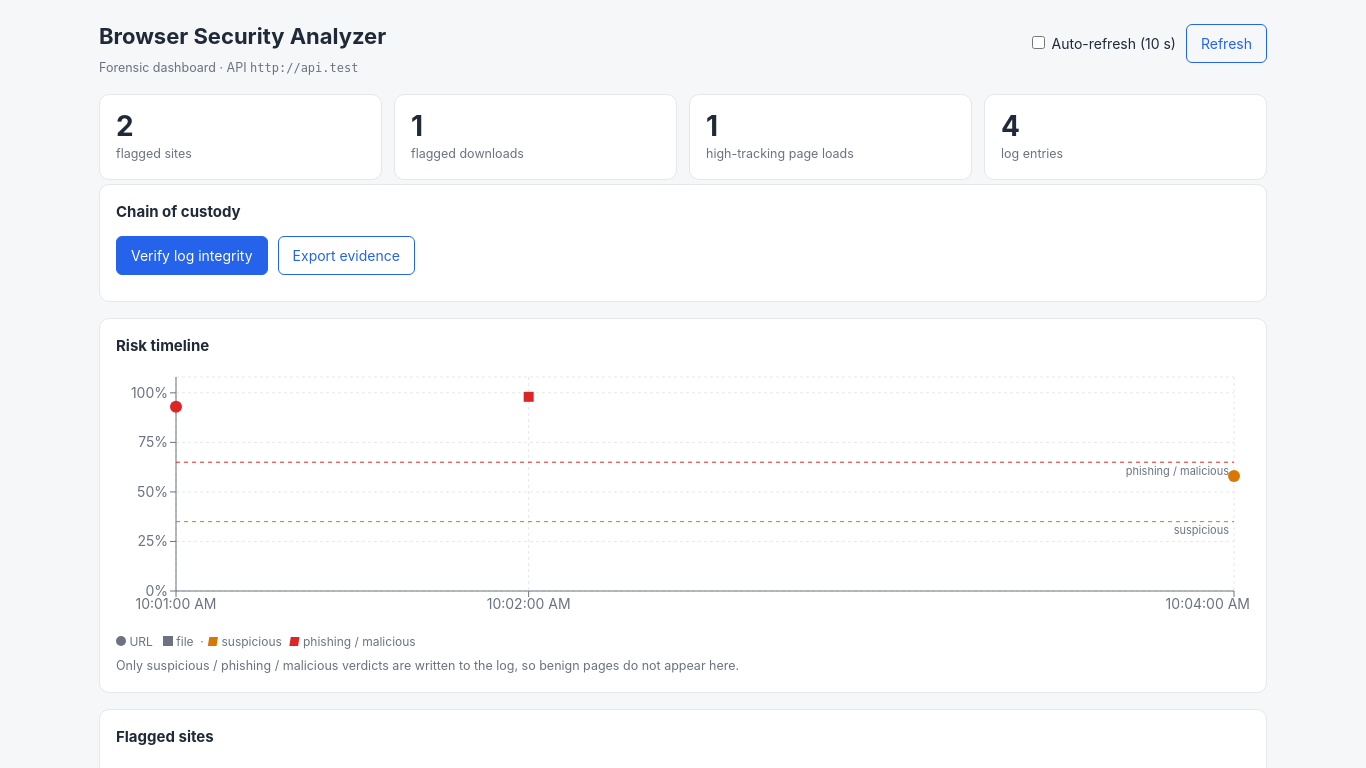
Scenario: Verify log integrity › valid chain -> green 'INTEGRITY VERIFIED' with entry count
Check: the text "flagged sites" is shown, box [116,146,192,160]
Step 1. Click the button "Verify log integrity" → (192, 255), box [116,236,268,275]
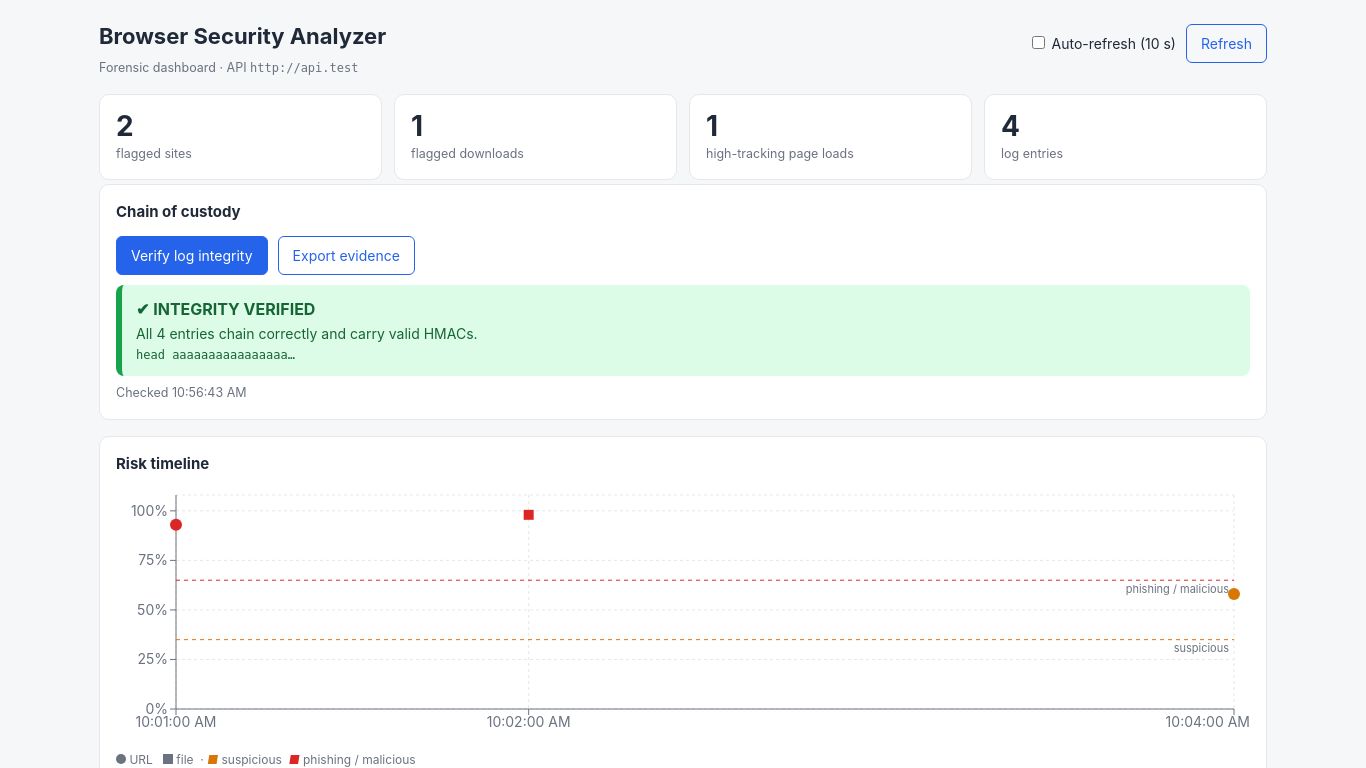
Check: the message with test id "verify-result" shows "INTEGRITY VERIFIED", box [136,299,315,319]
Check: the message with test id "verify-result" shows "All 4 entries", box [116,285,1250,376]
